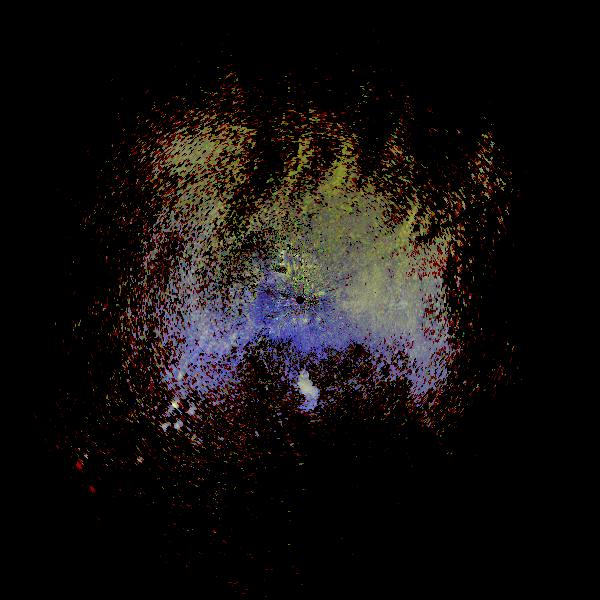roost: (274, 361, 331, 418), (372, 262, 423, 313)
